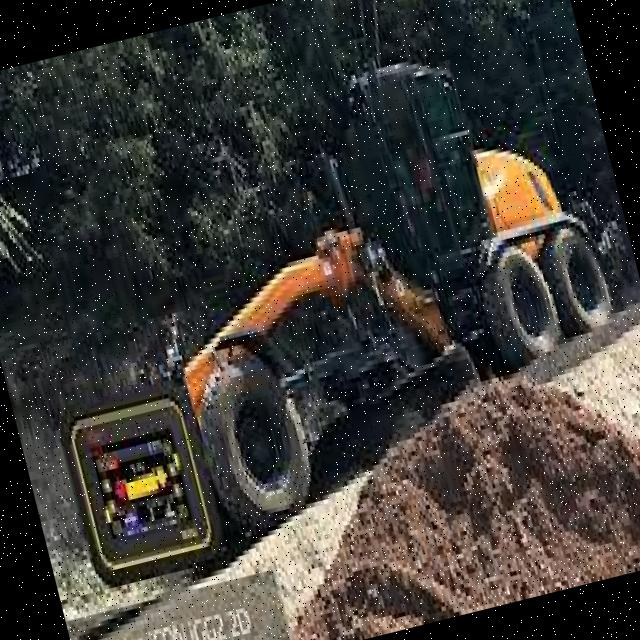Grader: (35, 19, 640, 613)
